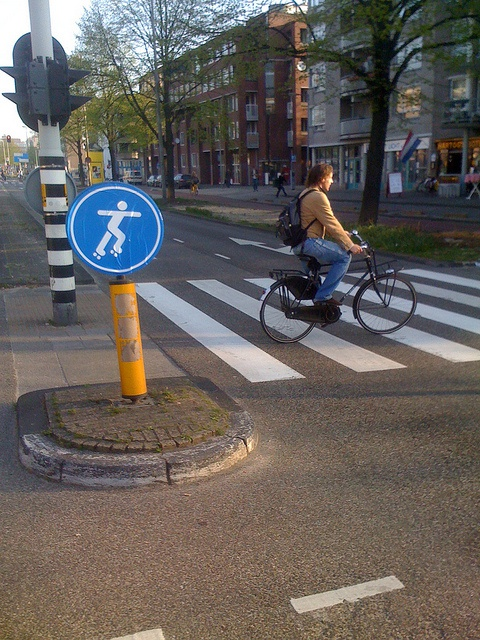non-vehicle: (257, 228, 418, 342), (188, 184, 198, 195)
